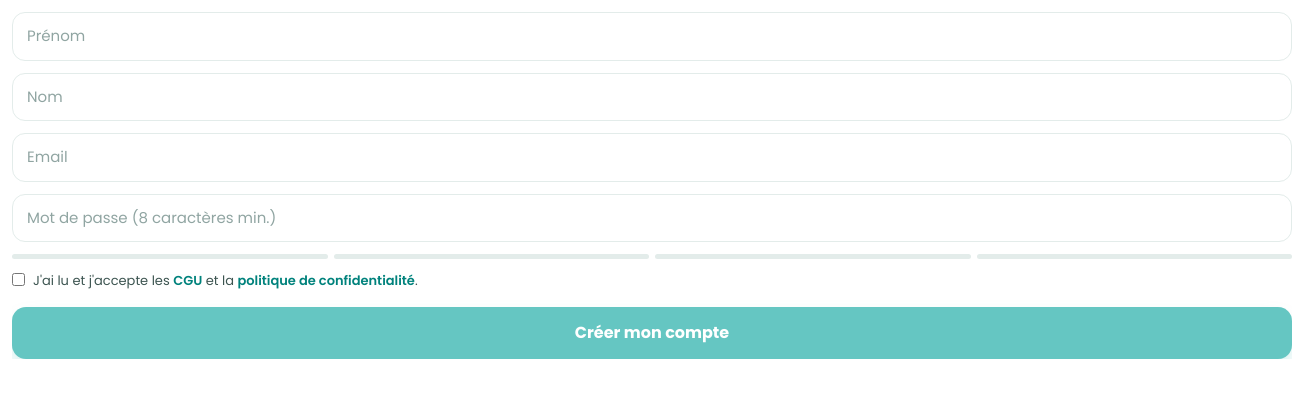
Scenario: RegisterForm › 409 → « Cet email est déjà utilisé. »
Type "Jean" into the field with placeholder "Prénom" at (652, 36), box [12,12,1292,60]
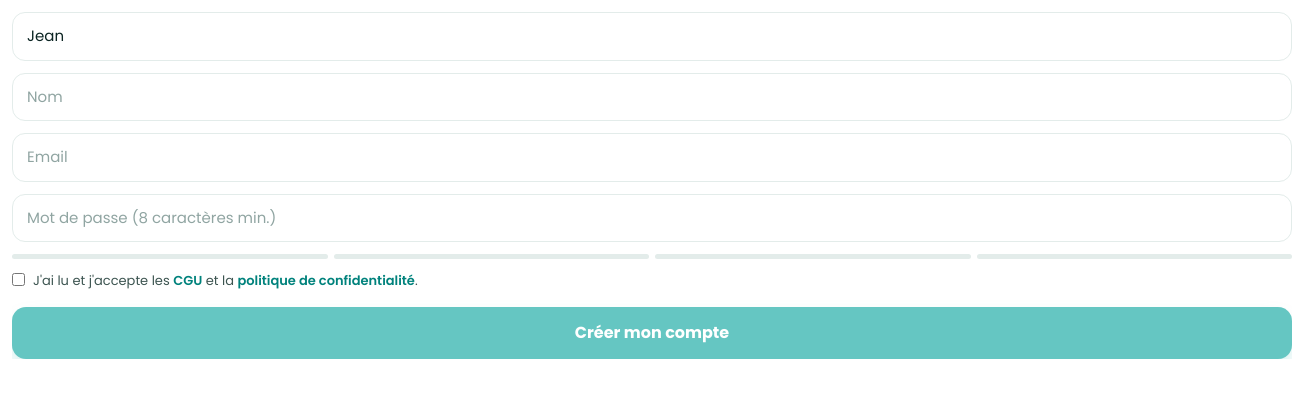
Type "Dupont" into the field with placeholder "Nom" at (652, 97), box [12,72,1292,121]
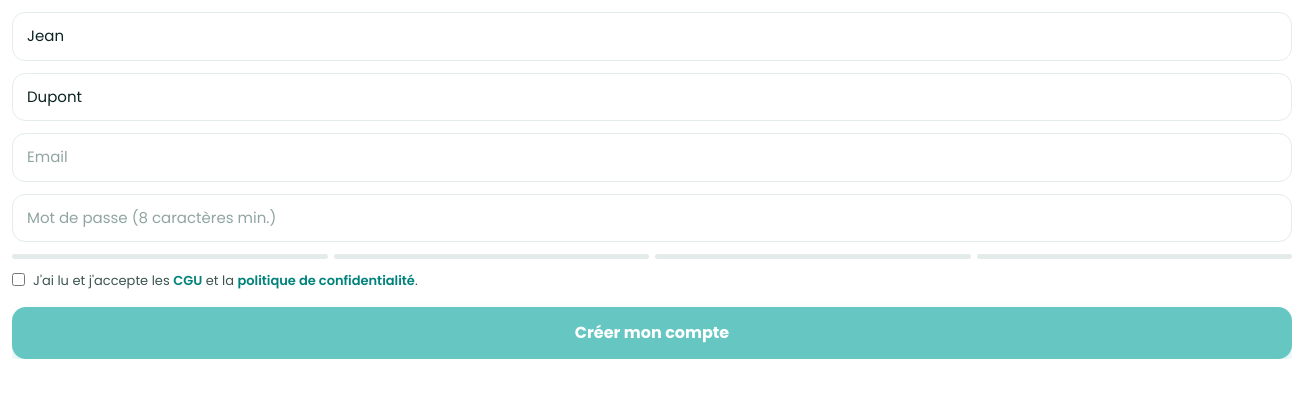
Type "jean@ex.fr" into the field with placeholder "Email" at (652, 157), box [12,133,1292,182]
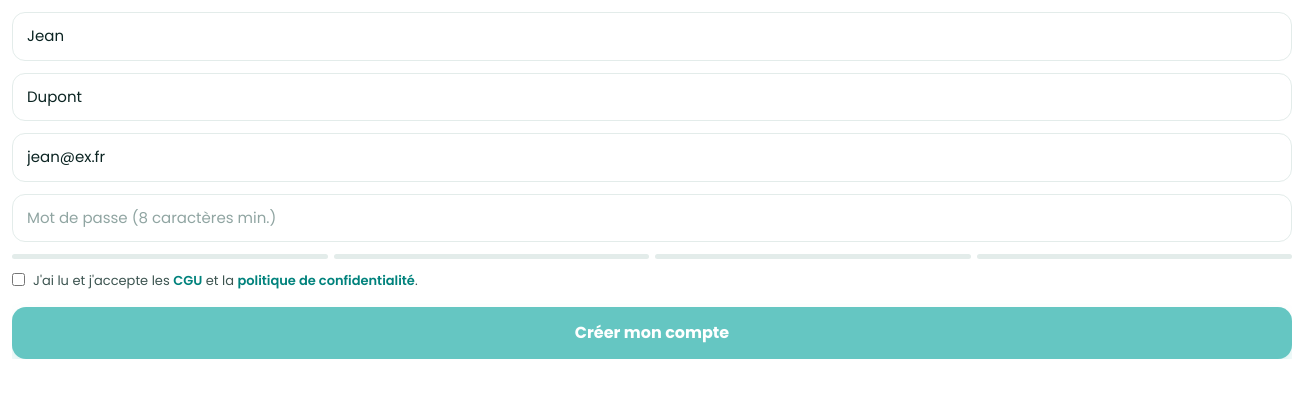
Type "Password1" into the password field with placeholder "Mot de passe (8 caractères min.)" at (652, 218), box [12,194,1292,242]
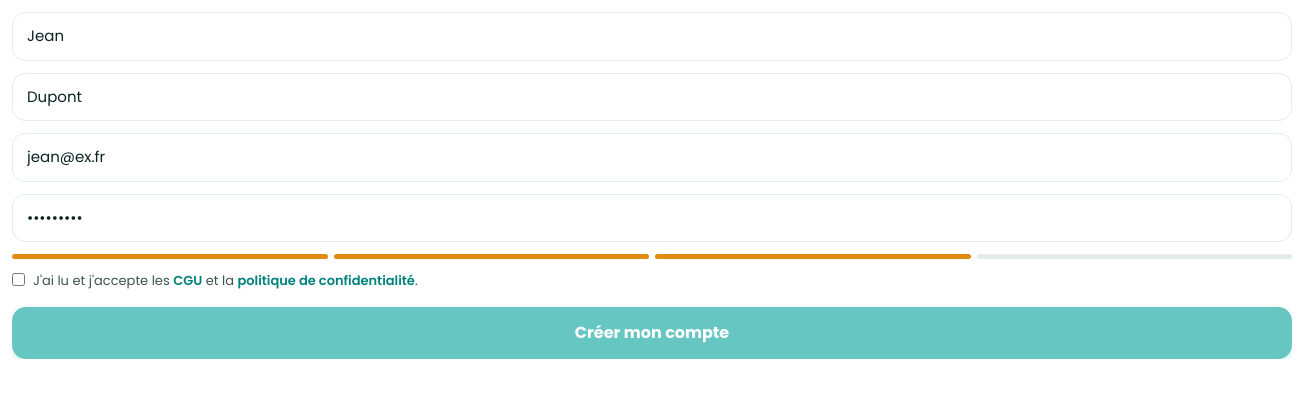
Click the checkbox at (18, 280), box [12,273,25,286]
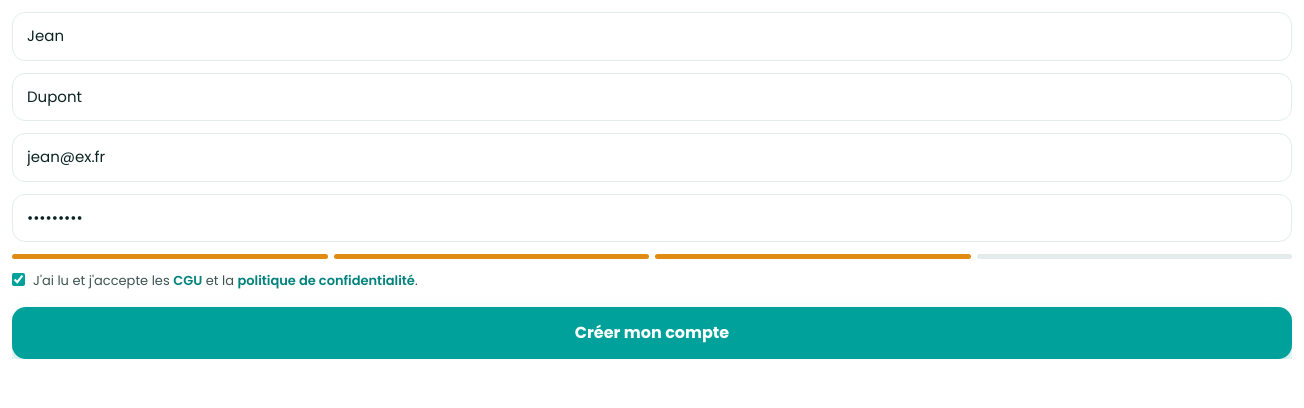
Click the button "Créer mon compte" at (652, 332), box [12,306,1292,358]
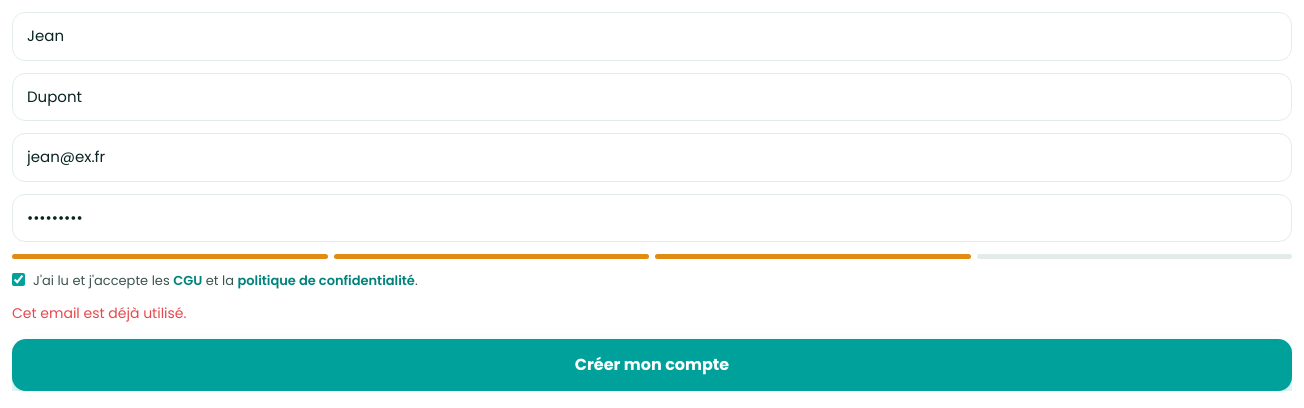
Expected: the text "Cet email est déjà utilisé." is shown, [12,302,186,322]
